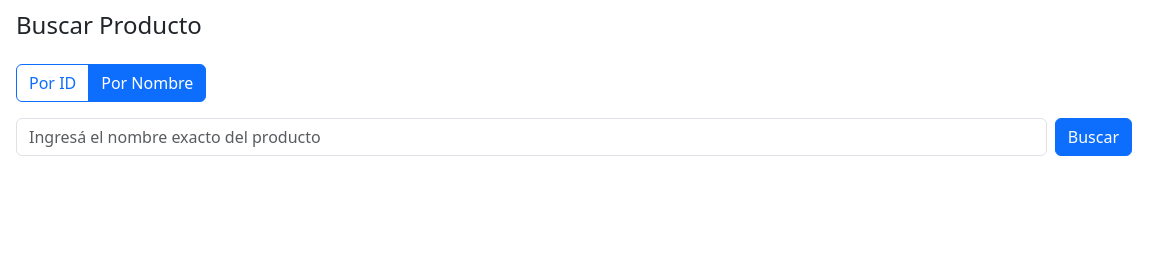
Test: muestra error si el campo de búsqueda está vacío
Click the button "Buscar": [1093, 137] box [1055,118,1132,156]
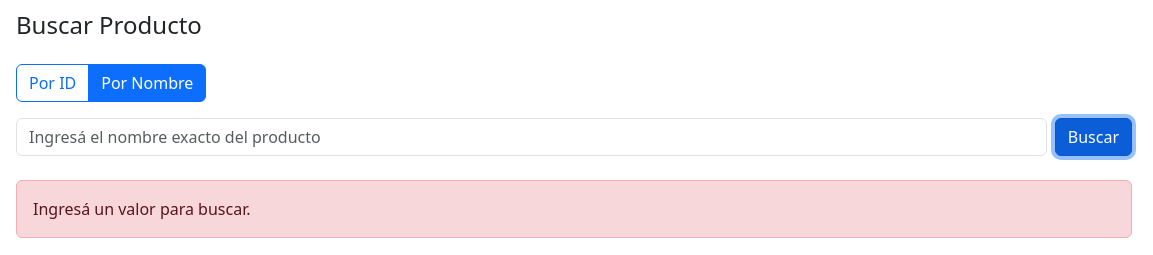
Check: the text "Ingresá un valor para buscar." is shown, box [16,180,1132,238]
